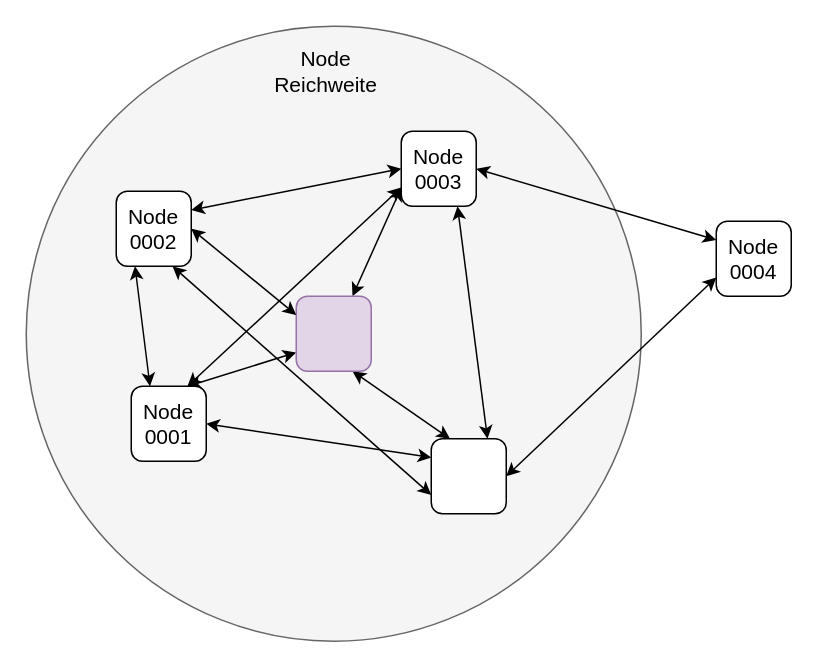
Some shapes in this 818 by 668 pixel diagram are drawn without their labels. The centre of each missing label's shape, as x and y in pixels:
"eigener Node" belongs at (x=333, y=333).
"Node 0005" belongs at (x=468, y=475).
